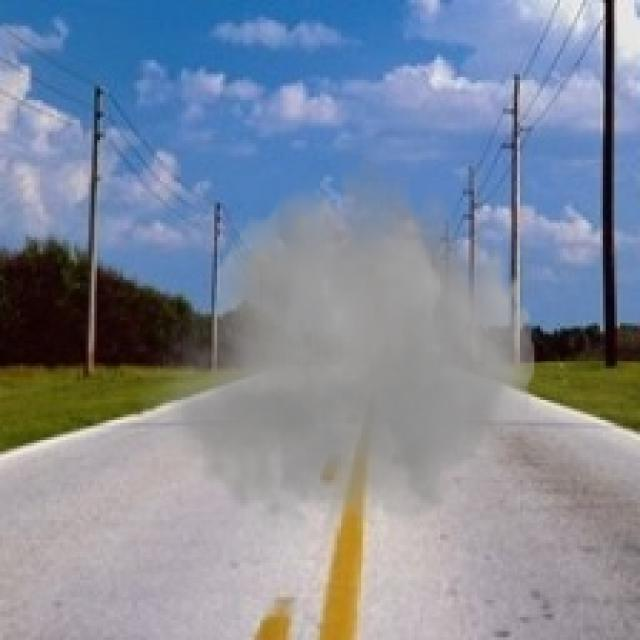smoke: (134, 140, 546, 563)
